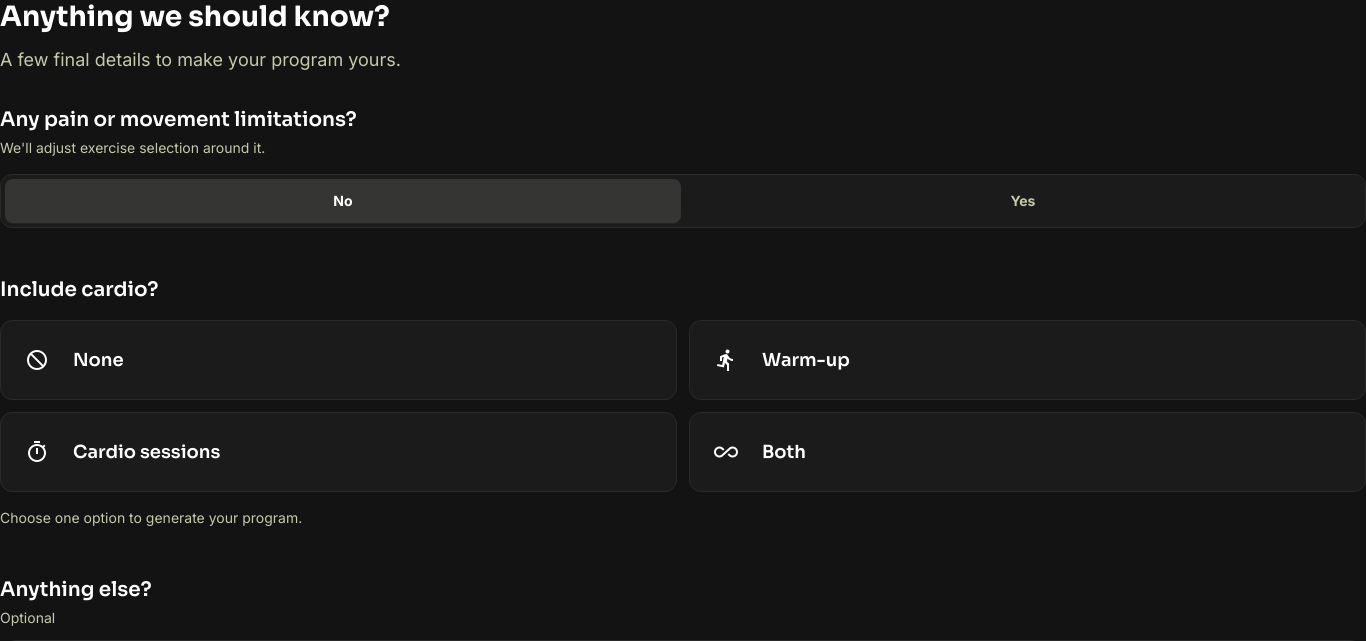
Step 5 progressively exposes the existing Movement Constraints workflow
Expected: the text "Your limitations" is not shown
Click the radio button labelled "Yes": [1023, 201] box left=685, top=179, right=1361, bottom=223
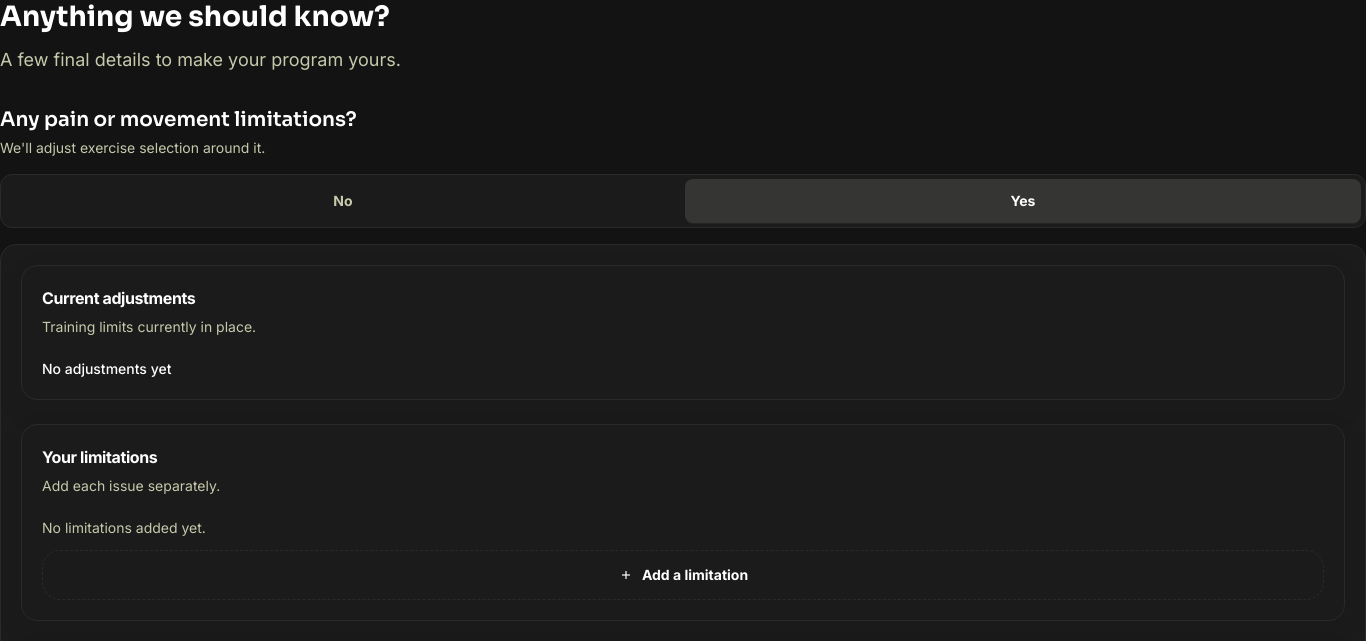
Result: the heading "Your limitations" is shown at left=42, top=447, right=157, bottom=467
Result: the button "Add a limitation" is shown at left=42, top=550, right=1324, bottom=600
